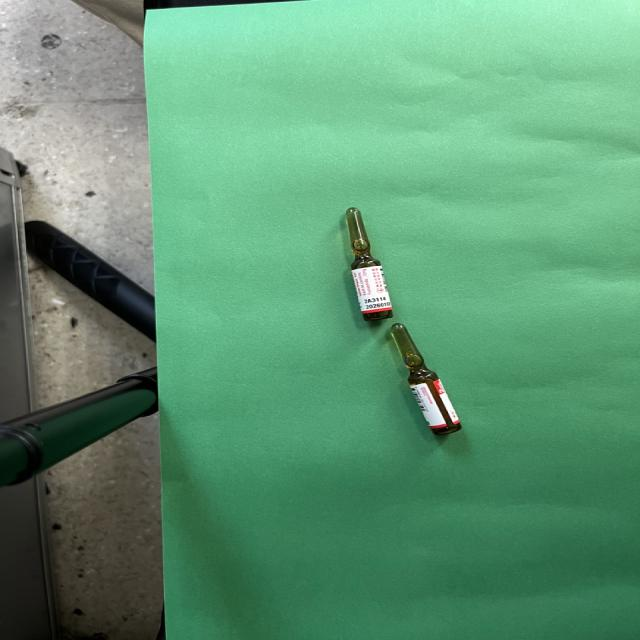Ampoules: (391, 323, 462, 436), (345, 208, 393, 320)
